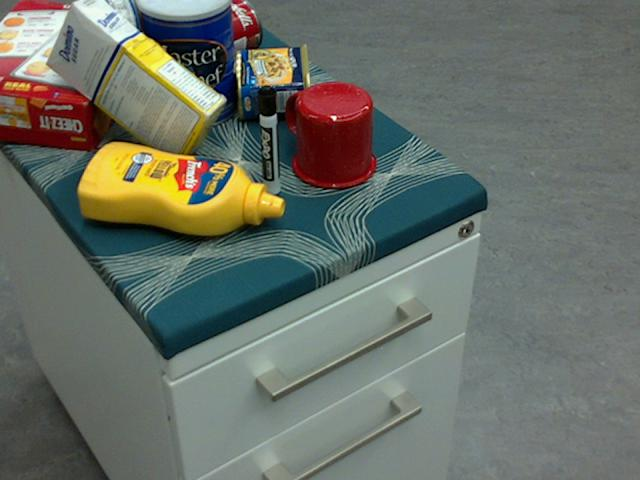cracker_box: (0, 1, 152, 152)
gelatin_box: (150, 0, 230, 43)
large_marker: (258, 85, 278, 193)
master_chef_can: (136, 0, 236, 129)
mug: (287, 80, 375, 188)
mustard_bottle: (77, 143, 284, 234)
potted_meat_can: (236, 43, 312, 119)
sugar_box: (47, 0, 228, 168)
tomato_soup_can: (165, 0, 262, 74)
tuna_fish_can: (85, 0, 141, 69)
